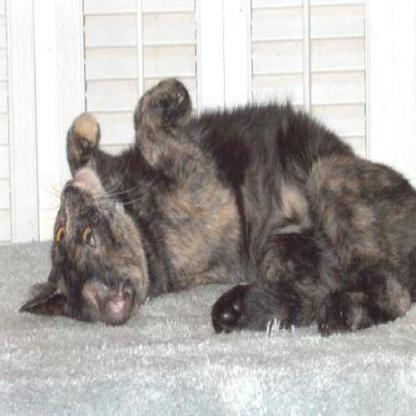cat: (28, 65, 404, 345)
